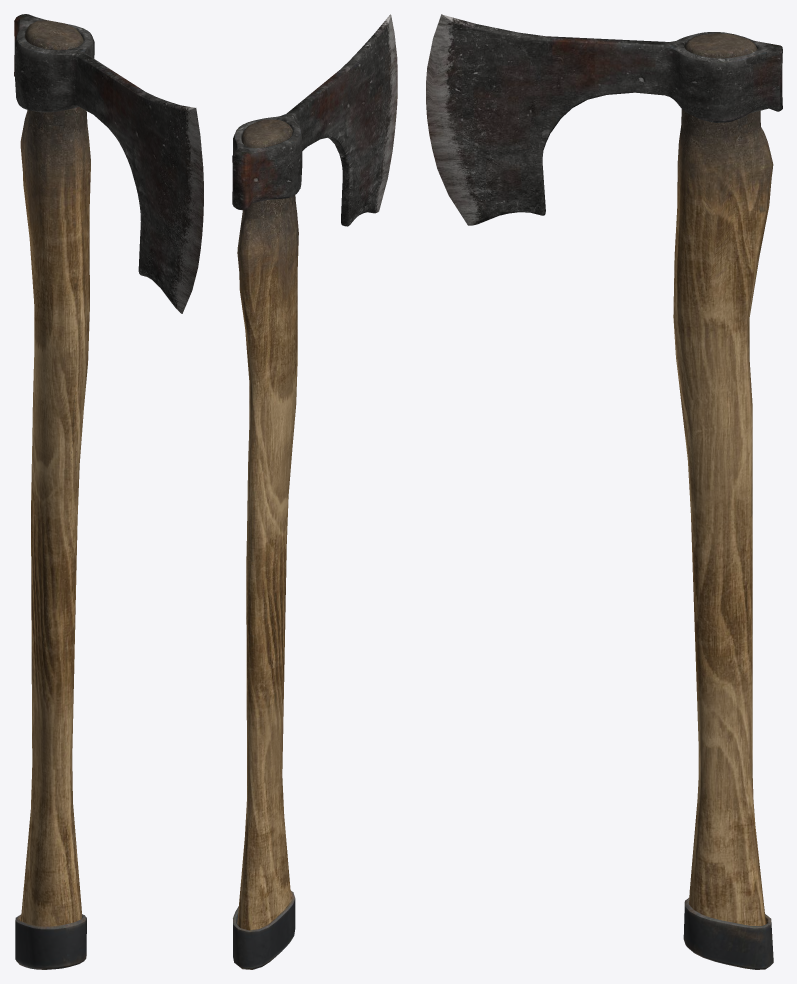
File: wooden_axe_lod0.glb
The picture shows the model from 3 angles, left to right: view 1: azimuth 30°, elevation 25°; view 2: azimuth 150°, elevation 25°; view 3: azimuth 270°, elevation 25°; orthographic projection. The views are drawn at different scales.
Visible parts, largest first — view 1: wooden_axe; view 2: wooden_axe; view 3: wooden_axe.
Part boxes in pixels (<box>): wooden_axe: <box>14,14,203,969</box>; wooden_axe: <box>232,14,397,969</box>; wooden_axe: <box>426,14,782,969</box>.
Size of the model in its own units: 0.0472 by 0.6304 by 0.2143.
Materials: 1 (1 with a texture image).
